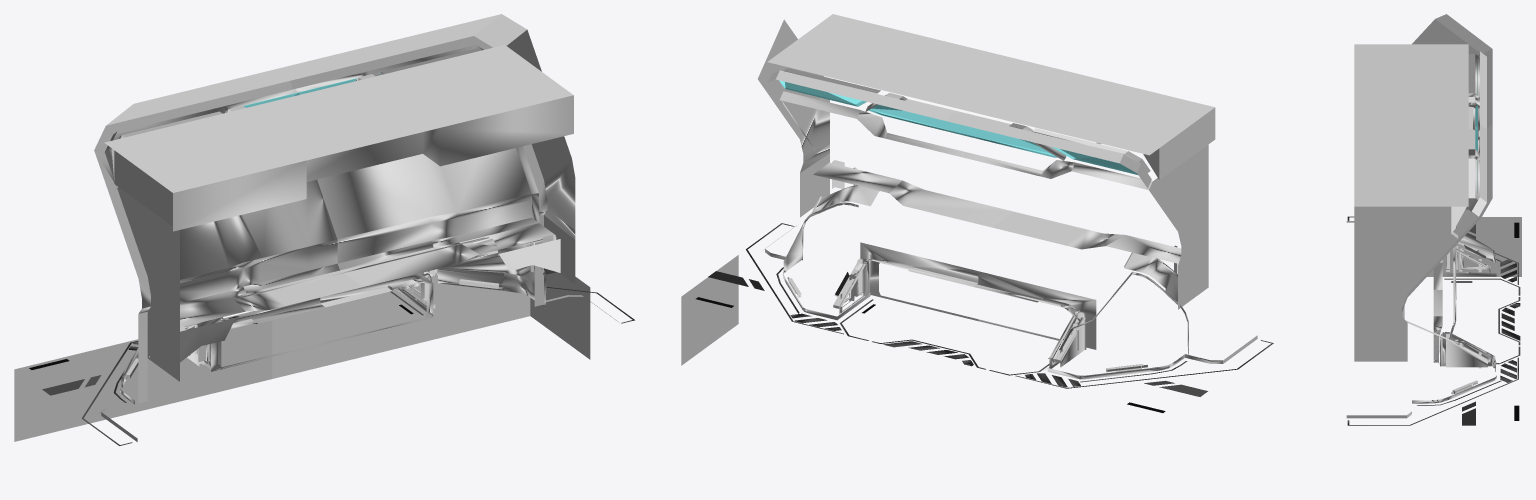
Rendered from hangar_wall_entrance_base_56m_a.glb.
The picture shows the model from 3 angles, left to right: view 1: azimuth 30°, elevation 25°; view 2: azimuth 150°, elevation 25°; view 3: azimuth 270°, elevation 25°; orthographic projection. The views are drawn at different scales.
Size of the model in its own units: 56 by 36.64 by 23.
